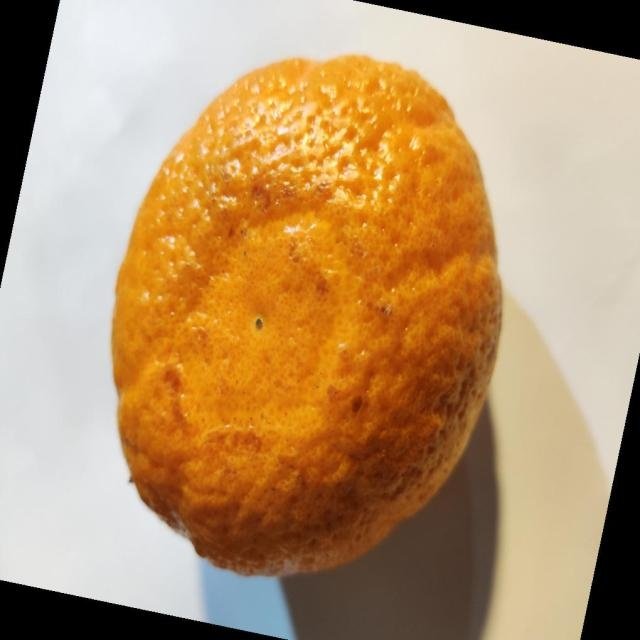agrume: (110, 52, 504, 578)
